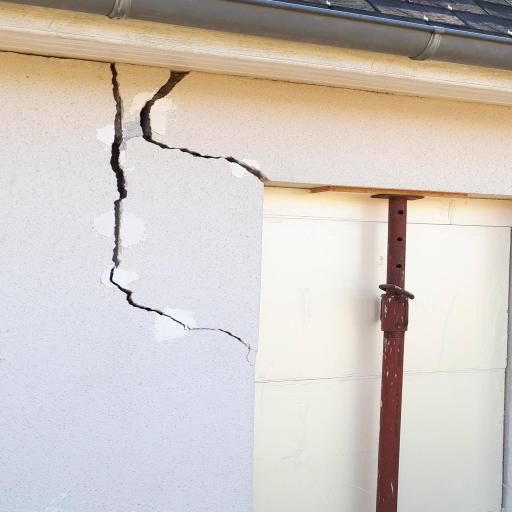spalling: (100, 68, 242, 350), (139, 72, 278, 187)
